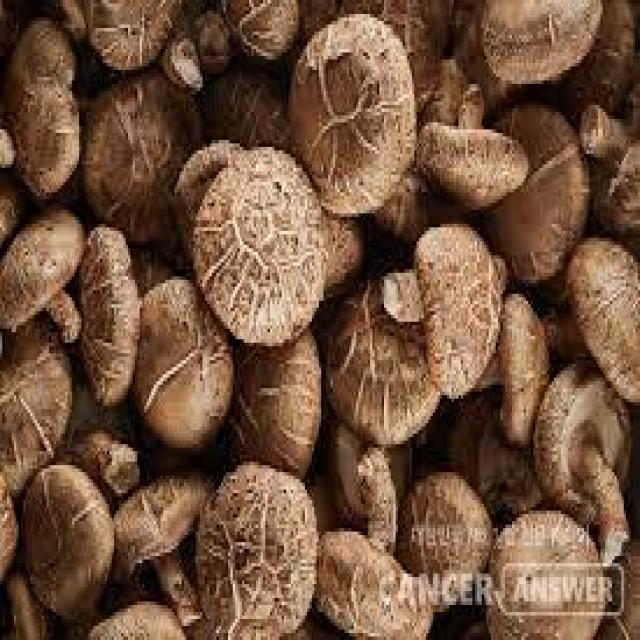Mushroom: (193, 147, 326, 346), (291, 14, 419, 217), (198, 460, 319, 639), (384, 224, 507, 399), (535, 364, 633, 563)
